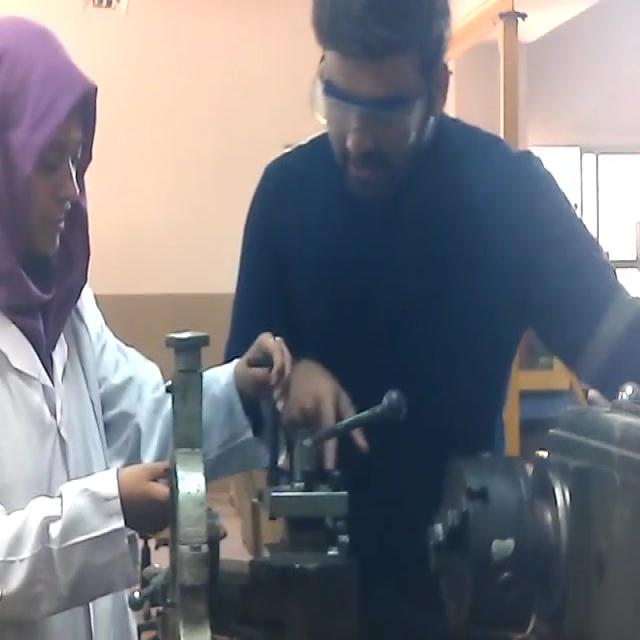googles: (312, 77, 428, 148)
labcoat: (0, 275, 270, 640)
